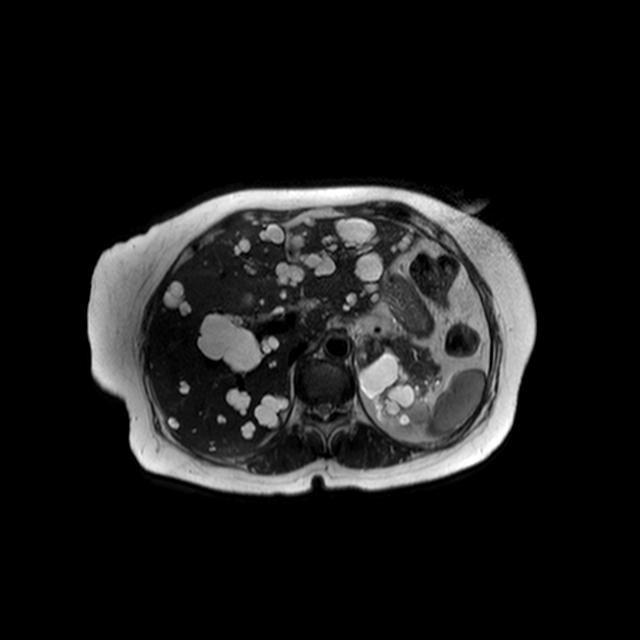sol: (360, 352, 431, 426)
